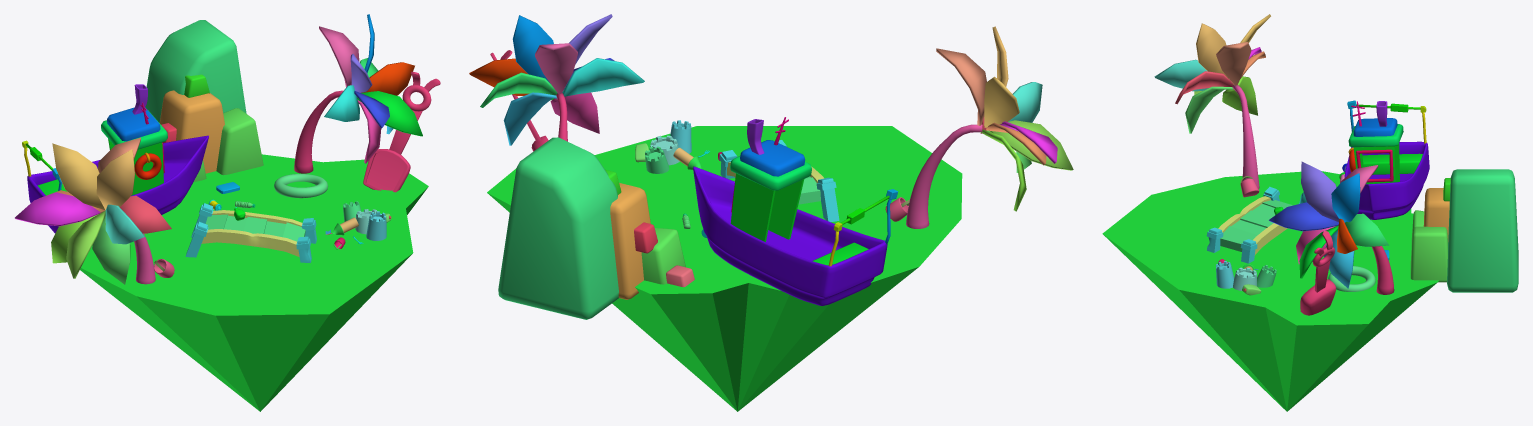
Rendered from isla_sucia.fbx.
3 views of the same model, side by side, from view 1: azimuth 30°, elevation 25°; view 2: azimuth 150°, elevation 25°; view 3: azimuth 270°, elevation 25° (orthographic). The views are drawn at different scales.
Parts seen in each view (by area): view 1: MainIsland.003, Cube.007, Cube.199, Cube.003, Box019.001, Cube.227, Plane.067, Plane.062, Cube.001, Plane.059, Cube, Cube.015 (+22 smaller); view 2: MainIsland.003, Cube.007, Cube.199, Cube.164, Cube.003, Plane.006, Cylinder.030, Cube.229, Plane.011, Plane.007, Cube.008, Plane.018 (+16 smaller); view 3: MainIsland.003, Cube.007, Cube.199, Cube.227, Box019.001, Cube, Plane.003, Plane.054, Plane.011, Cylinder.030, Plane.059, Plane.018 (+21 smaller).
Part boxes in pixels (bbox=[...]): MainIsland.003: bbox=[80, 154, 428, 411]; Cube.007: bbox=[145, 20, 246, 122]; Cube.199: bbox=[27, 135, 208, 233]; Cube.003: bbox=[159, 90, 224, 173]; Box019.001: bbox=[363, 71, 440, 192]; Cube.227: bbox=[216, 108, 263, 175]; Plane.067: bbox=[52, 143, 104, 209]; Plane.062: bbox=[15, 192, 100, 226]; Cube.001: bbox=[201, 210, 302, 256]; Plane.059: bbox=[96, 149, 134, 209]; Cube: bbox=[205, 214, 305, 241]; Cube.015: bbox=[185, 203, 316, 262]; MainIsland.003: bbox=[487, 126, 962, 411]; Cube.007: bbox=[498, 137, 618, 319]; Cube.199: bbox=[693, 166, 887, 305]; Cube.164: bbox=[730, 173, 804, 242]; Cube.003: bbox=[610, 183, 650, 299]; Plane.006: bbox=[562, 58, 644, 96]; Cylinder.030: bbox=[906, 124, 982, 228]; Cube.229: bbox=[641, 228, 685, 284]; Plane.011: bbox=[512, 15, 553, 83]; Plane.007: bbox=[535, 43, 577, 94]; Cube.008: bbox=[740, 140, 805, 176]; Plane.018: bbox=[936, 48, 986, 125]; MainIsland.003: bbox=[1102, 171, 1438, 411]; Cube.007: bbox=[1447, 169, 1518, 292]; Cube.199: bbox=[1344, 141, 1429, 219]; Cube.227: bbox=[1410, 226, 1447, 282]; Box019.001: bbox=[1300, 231, 1336, 315]; Cube: bbox=[1220, 200, 1292, 251]; Plane.003: bbox=[1301, 161, 1339, 222]; Plane.054: bbox=[1269, 202, 1338, 231]; Plane.011: bbox=[1331, 173, 1360, 222]; Cylinder.030: bbox=[1232, 85, 1259, 188]; Plane.059: bbox=[1196, 23, 1228, 78]; Plane.018: bbox=[1216, 41, 1251, 85].
Size of the model in its own units: 2925 by 2083 by 2528.
